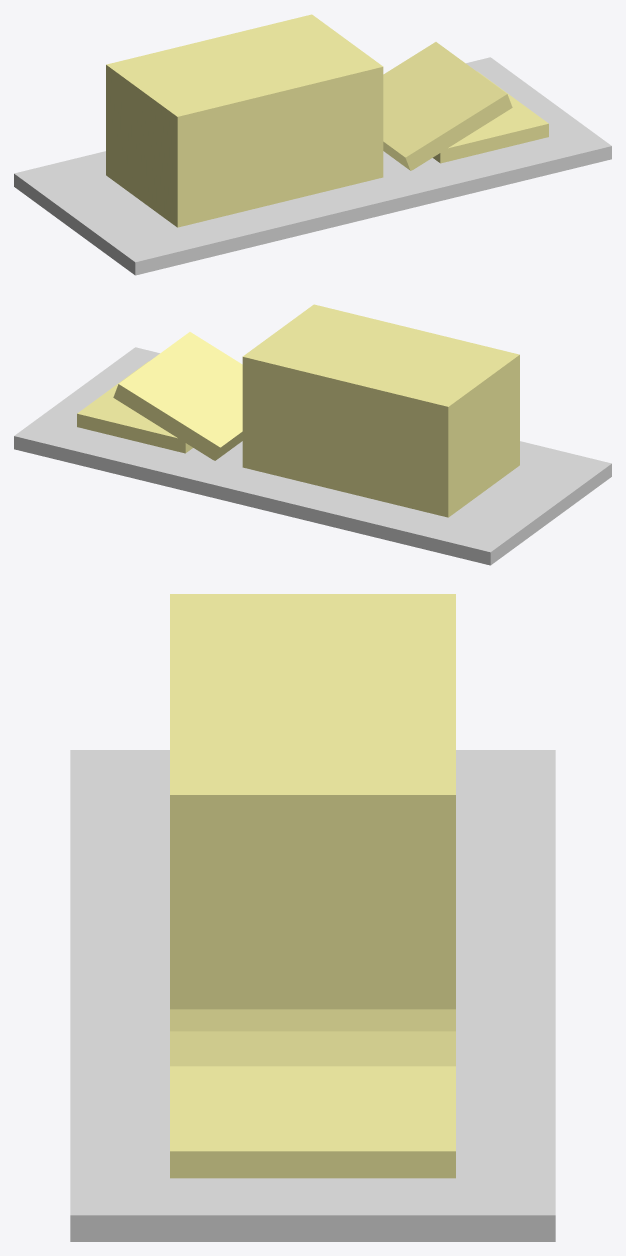
The model's file is buttercube2.fbx.
3 views of the same model, one above another, from view 1: azimuth 30°, elevation 25°; view 2: azimuth 150°, elevation 25°; view 3: azimuth 270°, elevation 25° (orthographic). The views are drawn at different scales.
Parts seen in each view (by area): view 1: Cube.016, Cube.018, Cube.020, Cube.019; view 2: Cube.016, Cube.018, Cube.020, Cube.019; view 3: Cube.016, Cube.018, Cube.019, Cube.020.
Boxes of the visible parts, left/top/right/bottom form: Cube.016: left=106, top=14, right=383, bottom=227; Cube.018: left=14, top=57, right=611, bottom=275; Cube.020: left=383, top=42, right=512, bottom=170; Cube.019: left=433, top=71, right=548, bottom=163; Cube.016: left=242, top=304, right=519, bottom=517; Cube.018: left=14, top=347, right=611, bottom=565; Cube.020: left=113, top=332, right=242, bottom=460; Cube.019: left=77, top=361, right=192, bottom=453; Cube.016: left=170, top=594, right=455, bottom=1009; Cube.018: left=70, top=750, right=555, bottom=1241; Cube.019: left=170, top=1066, right=455, bottom=1178; Cube.020: left=170, top=1009, right=455, bottom=1066.
Size of the model in its own units: 265 by 65.99 by 117.
